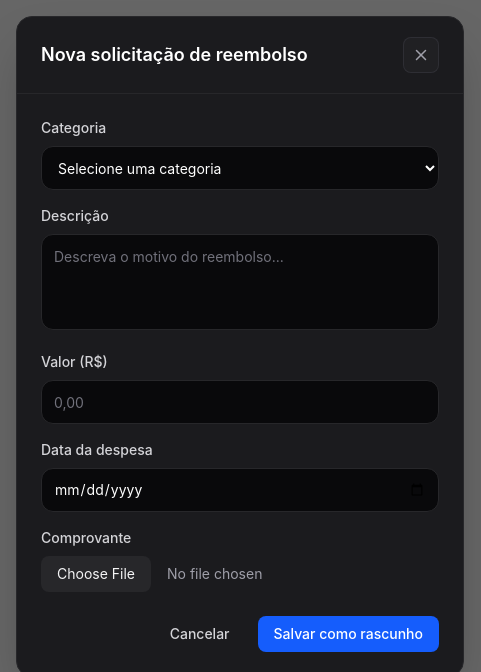
CreateReimbursement - campos obrigatórios › deve exibir erro ao tentar enviar sem data da despesa
Select "Material" in the dropdown labelled "Categoria" at (240, 168), box [41,146,439,190]
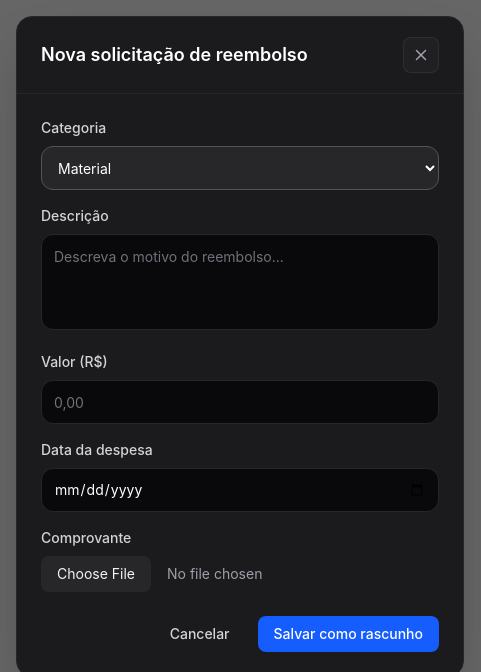
Type "Caderno e canetas" into the text box labelled "Descrição".
click(240, 282); type("Caderno e canetas")  # box [41,234,439,330]
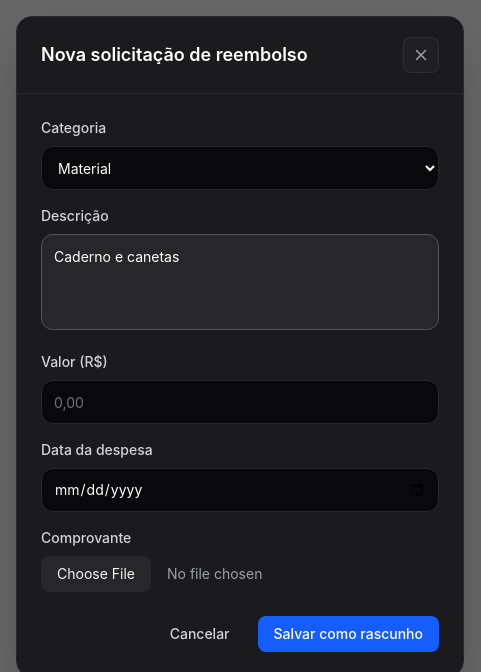
Type "25" into the number field labelled "Valor (R$)".
click(240, 402); type("25")  # box [41,380,439,424]
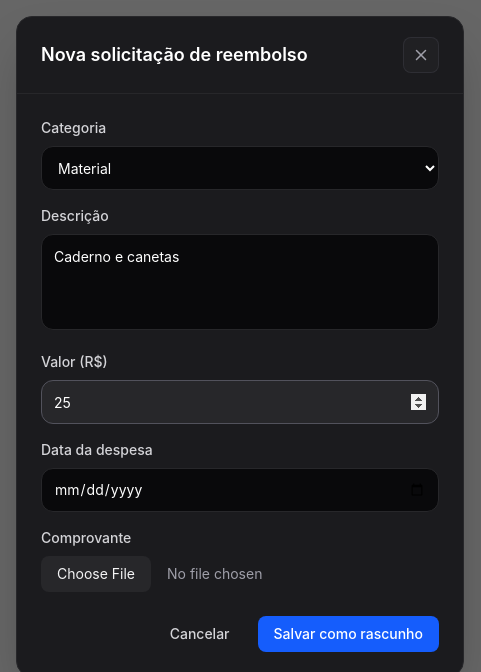
Click the button "Salvar como rascunho".
click(348, 634)  # box [258,616,439,652]
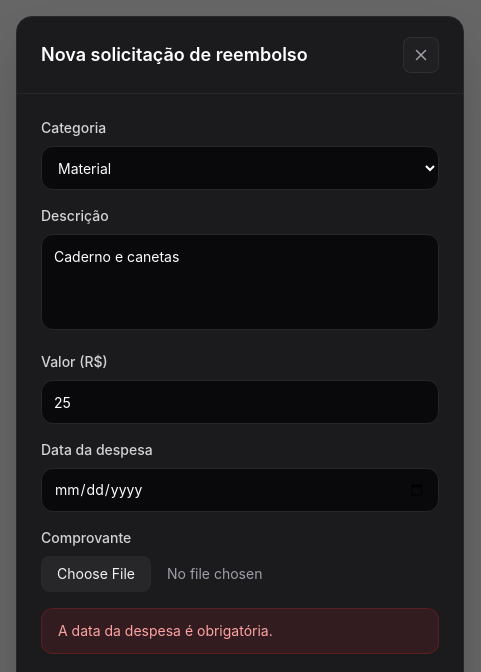
expect the text "A data da despesa é obrigatória." is shown: met, box [58,622,273,639]
